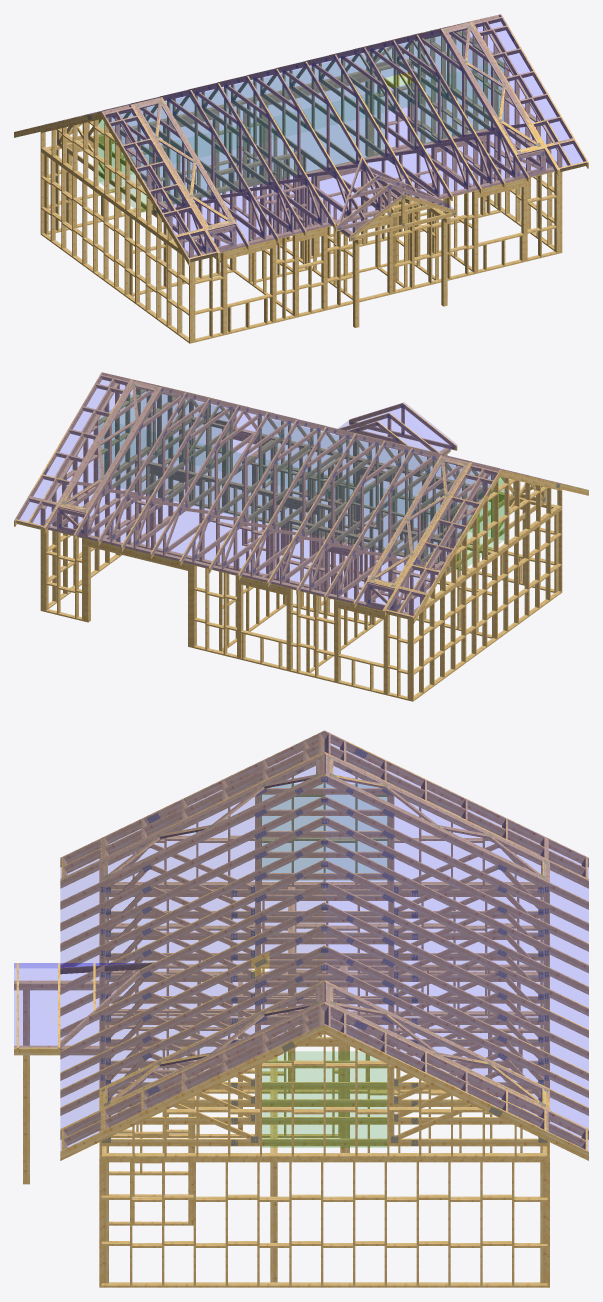
The picture shows the model from 3 angles, top to bottom: view 1: azimuth 30°, elevation 25°; view 2: azimuth 150°, elevation 25°; view 3: azimuth 270°, elevation 25°; orthographic projection. The views are drawn at different scales.
Parts seen in each view (by area): view 1: skfb_offset; view 2: skfb_offset; view 3: skfb_offset.
Part boxes in pixels (x1,y1,x2,y2): skfb_offset: (14,14,588,343); skfb_offset: (14,372,588,701); skfb_offset: (14,730,588,1287).
Size of the model in its own units: 13684 by 5910 by 11290.
5 materials, 3 textured.
